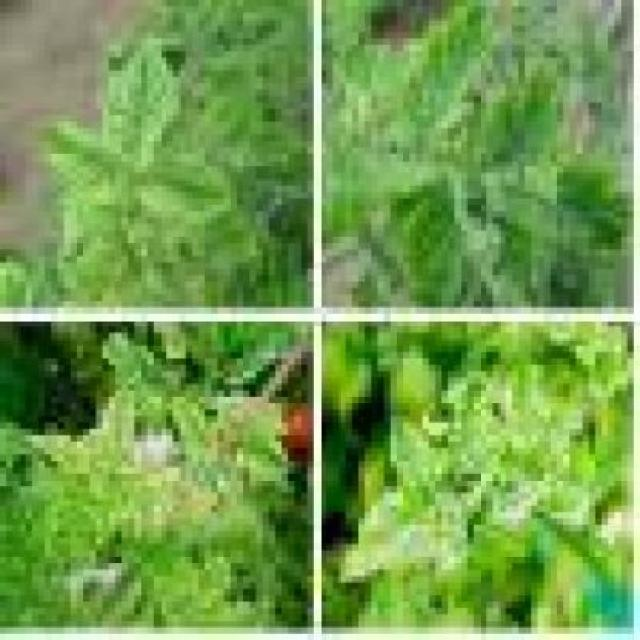Leaf Mold: (385, 1, 500, 149), (97, 39, 194, 174), (136, 142, 251, 225), (404, 180, 475, 308), (33, 111, 130, 200)
